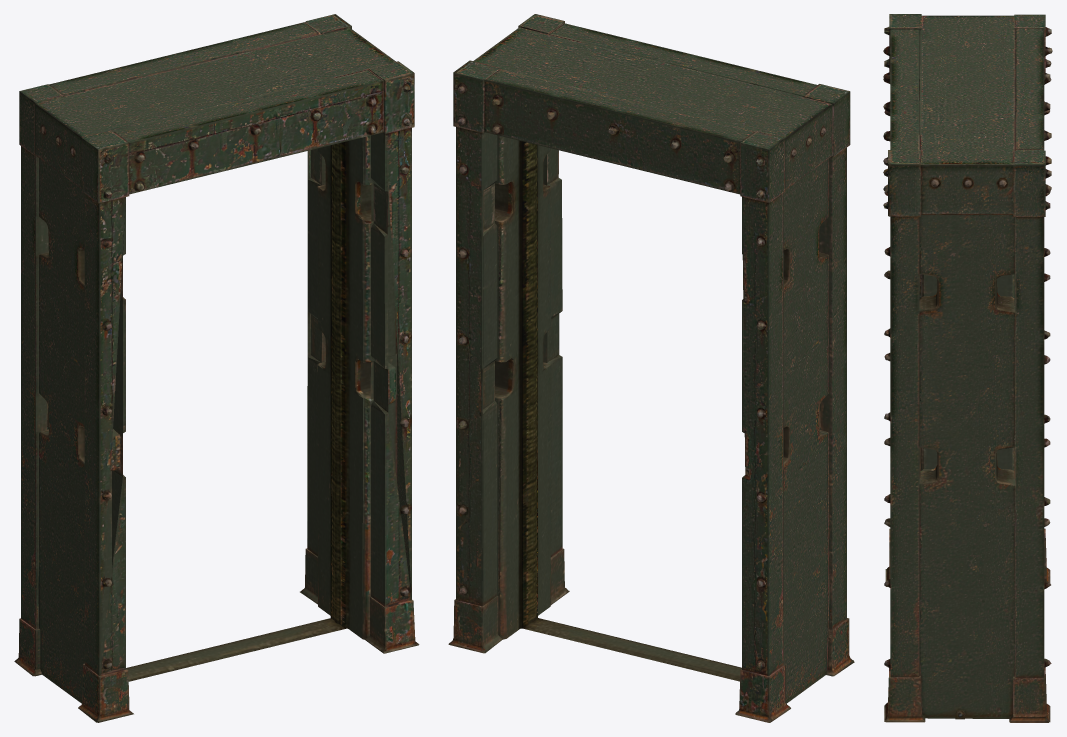
File: asy_door_frame.glb
3 renders of one model, left to right at view 1: azimuth 30°, elevation 25°; view 2: azimuth 150°, elevation 25°; view 3: azimuth 270°, elevation 25°, orthographic. The views are drawn at different scales.
Visible parts, largest first — view 1: tripo_node_4fb46b03-b282-4d65-9dd0-ebea94514036; view 2: tripo_node_4fb46b03-b282-4d65-9dd0-ebea94514036; view 3: tripo_node_4fb46b03-b282-4d65-9dd0-ebea94514036.
Part boxes in pixels (x1,y1,x2,y2): tripo_node_4fb46b03-b282-4d65-9dd0-ebea94514036: (14,14,419,722); tripo_node_4fb46b03-b282-4d65-9dd0-ebea94514036: (448,14,854,722); tripo_node_4fb46b03-b282-4d65-9dd0-ebea94514036: (883,14,1052,722).
Size of the model in its own units: 1.25 by 2.1 by 0.5795.
Materials: 1 (1 with a texture image).
